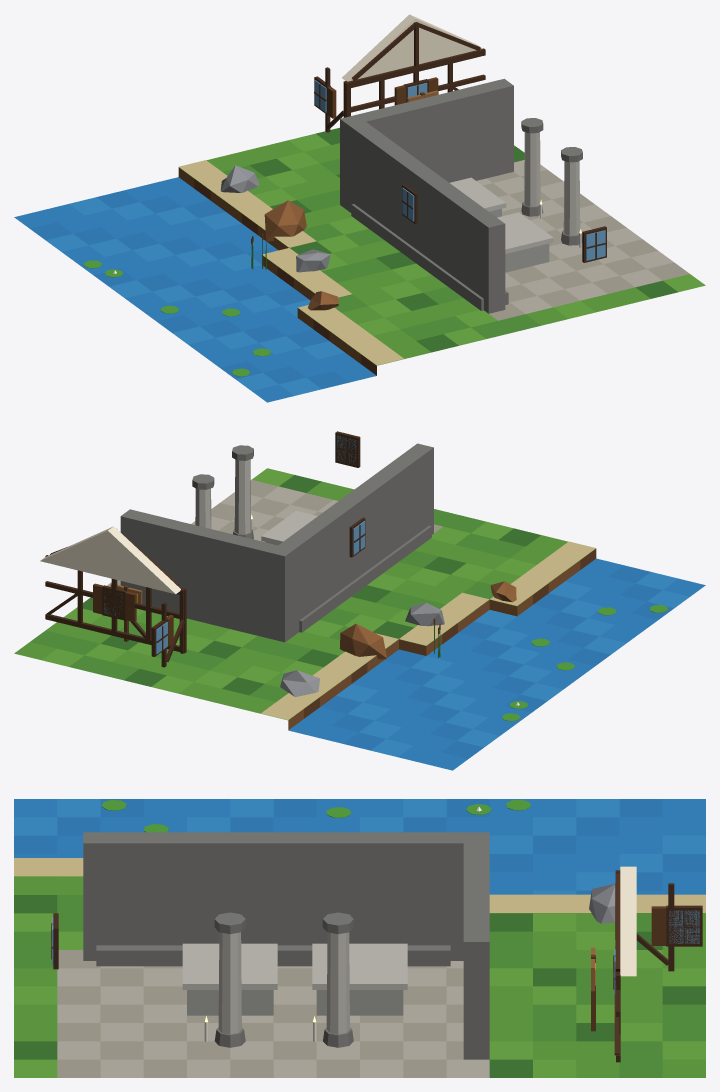
File: chunk_4_6.glb
3 renders of one model, top to bottom at view 1: azimuth 30°, elevation 25°; view 2: azimuth 150°, elevation 25°; view 3: azimuth 270°, elevation 25°, orthographic. The views are drawn at different scales.
Visible parts, largest first — view 1: chunk_4_6; view 2: chunk_4_6; view 3: chunk_4_6.
Part boxes in pixels (x1,y1,x2,y2): chunk_4_6: [14, 14, 705, 402]; chunk_4_6: [14, 431, 705, 770]; chunk_4_6: [14, 799, 705, 1077].
Bounding box in the file's own units: 16 × 4.71 × 16.
